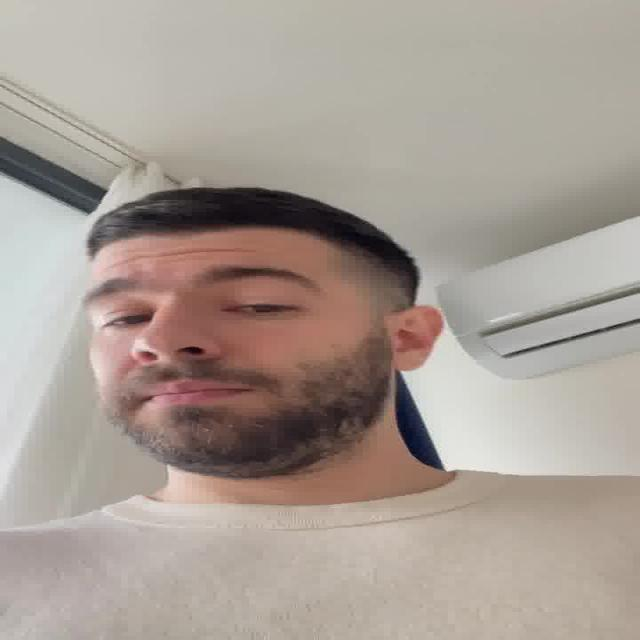earlobe: (392, 306, 444, 372)
